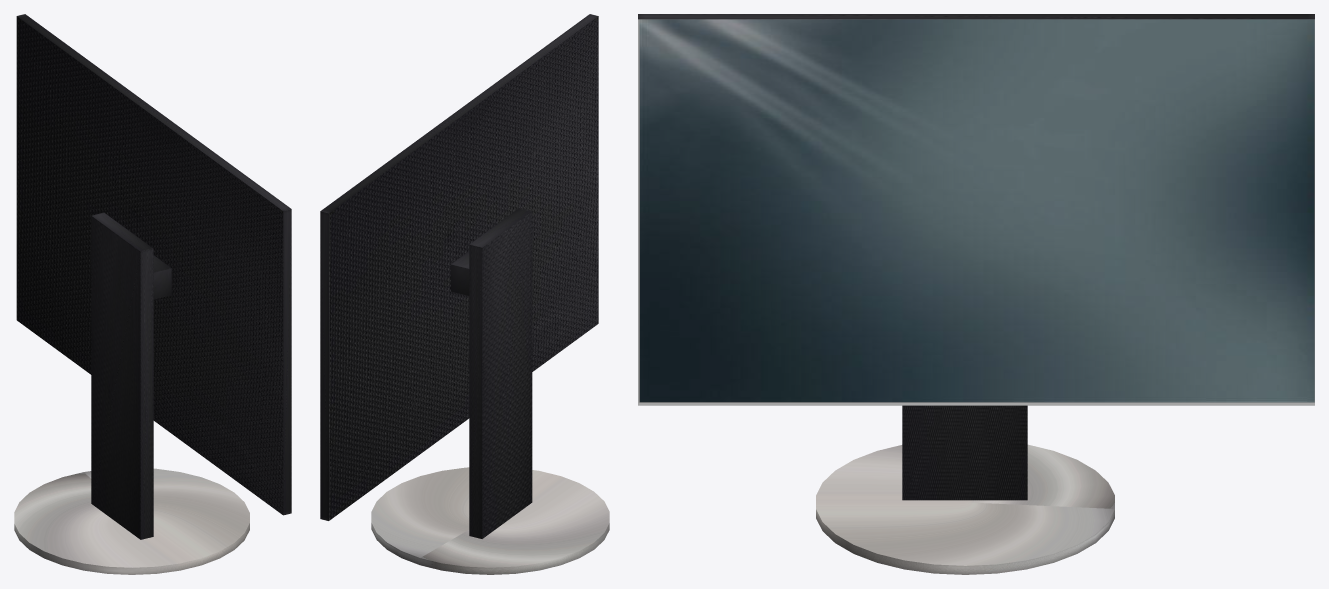
File: computer.FBX
The picture shows the model from 3 angles, left to right: view 1: azimuth 30°, elevation 25°; view 2: azimuth 150°, elevation 25°; view 3: azimuth 270°, elevation 25°; orthographic projection. The views are drawn at different scales.
Visible parts, largest first — view 1: Box003, Box001, Cylinder001, Box002; view 2: Box003, Box001, Cylinder001, Box002; view 3: Box003, Cylinder001, Box001.
Boxes of the visible parts, x1,y1,x2,y2 form: Box003: (16, 14, 291, 515); Box001: (91, 212, 153, 539); Cylinder001: (14, 468, 249, 574); Box002: (153, 255, 171, 299); Box003: (320, 14, 598, 520); Box001: (469, 208, 532, 538); Cylinder001: (371, 467, 609, 574); Box002: (451, 251, 469, 295); Box003: (638, 14, 1314, 405); Cylinder001: (816, 444, 1114, 574); Box001: (902, 405, 1027, 500).
Bounding box in the file's own units: 240 × 450 × 540.
3 materials, 3 textured.
